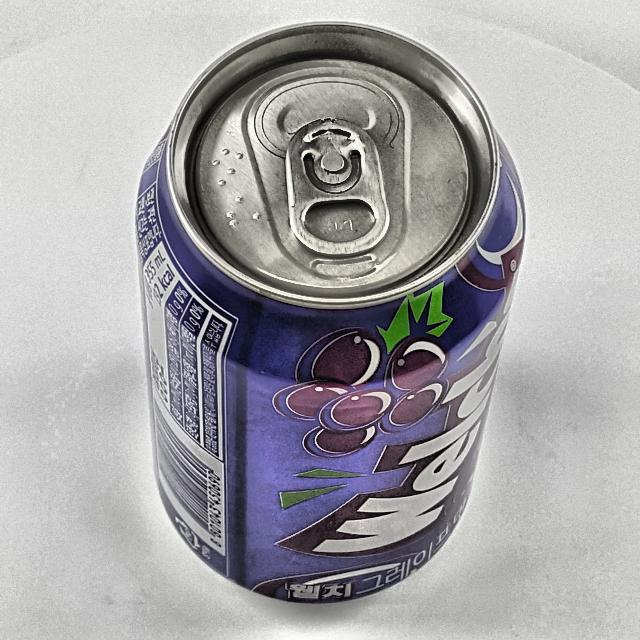welchs: (136, 24, 525, 602)
